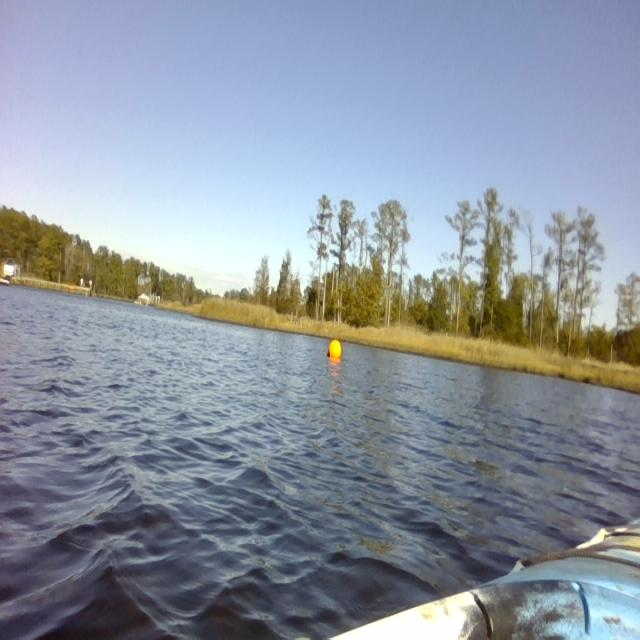Buoy: (327, 337, 345, 366)
